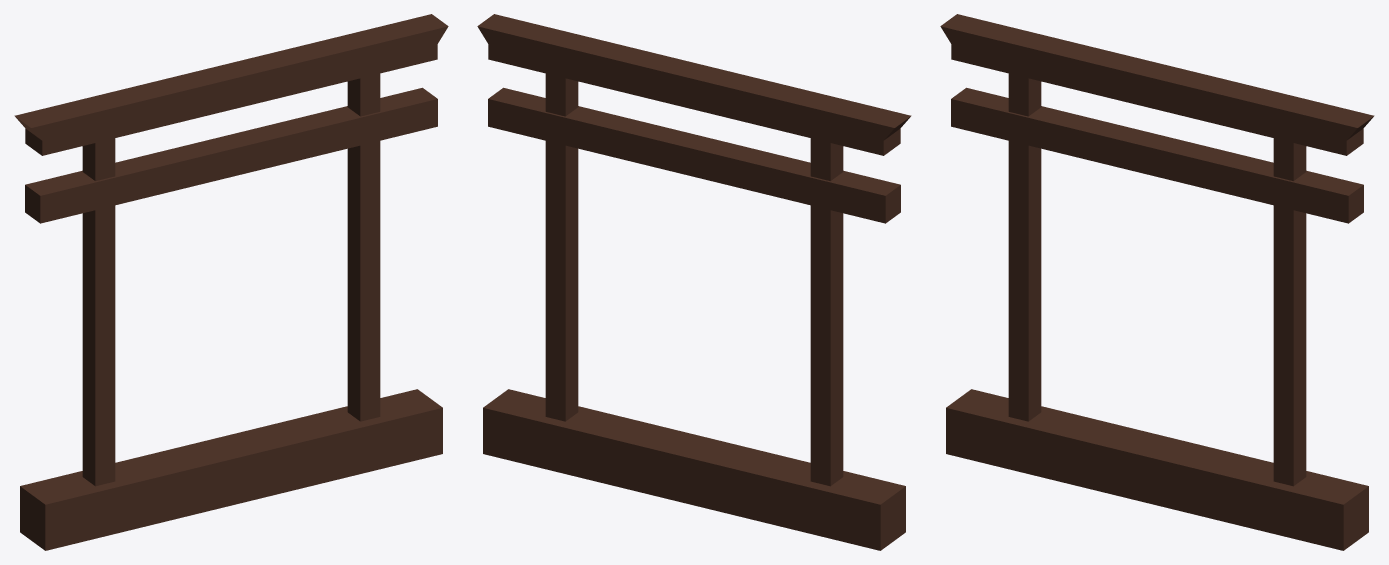
File: Gateway Feature.fbx
The picture shows the model from 3 angles, left to right: view 1: azimuth 30°, elevation 25°; view 2: azimuth 150°, elevation 25°; view 3: azimuth 330°, elevation 25°; orthographic projection.
Visible parts, largest first — view 1: Gateway Feature; view 2: Gateway Feature; view 3: Gateway Feature.
Boxes of the visible parts, x1,y1,x2,y2 form: Gateway Feature: [14, 14, 448, 550]; Gateway Feature: [477, 14, 911, 550]; Gateway Feature: [940, 14, 1374, 550].
Size of the model in its own units: 1890 by 1826 by 200.
